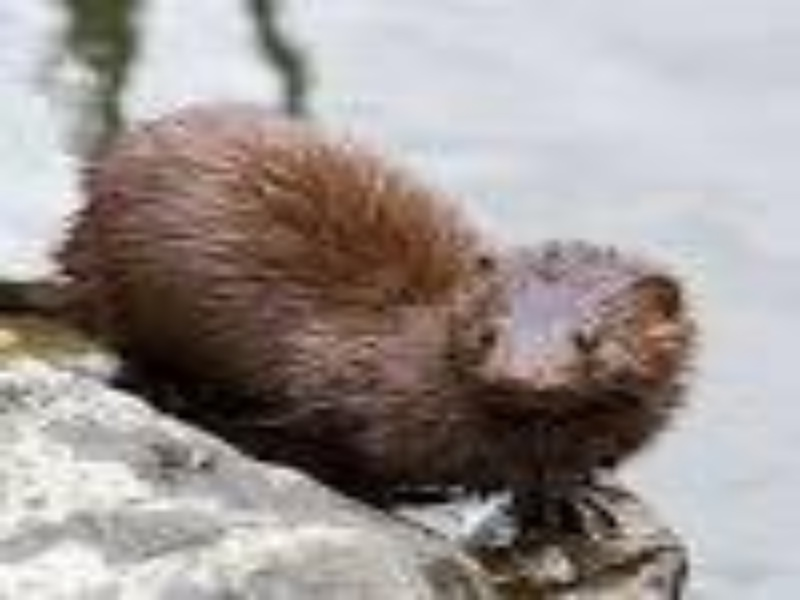minkish: (54, 104, 702, 541)
